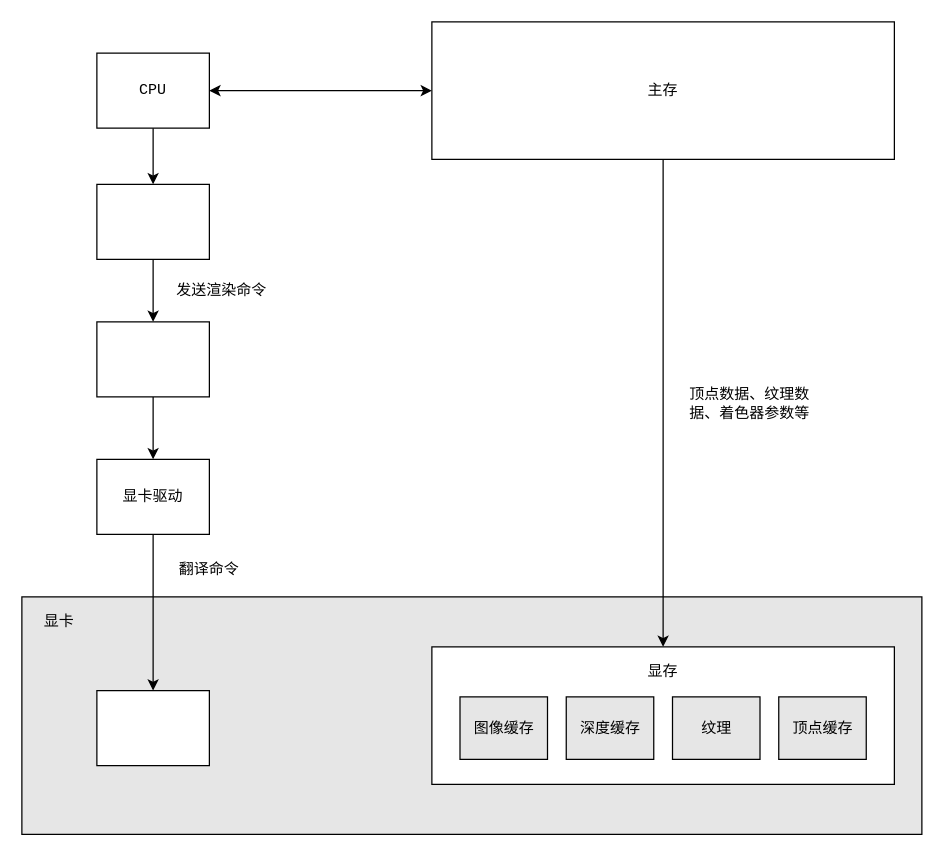
This 944x856 diagram has some shape labels left out. Here are the shapes that lost their labels. From the top down, the centre of each, then its label:
At (152,221): "应用程序".
At (152,359): "OpenGL/ DirectX".
At (152,727): "GPU".
